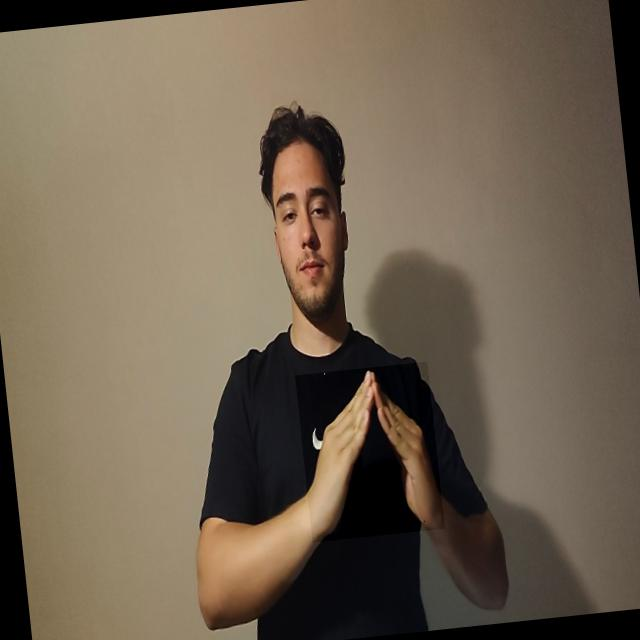house: (294, 361, 444, 542)
